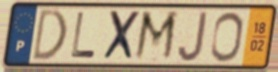D: (30, 7, 69, 64)
J: (176, 9, 209, 64)
L: (69, 11, 98, 61)
M: (132, 9, 181, 64)
O: (209, 10, 245, 64)
X: (101, 9, 142, 63)
